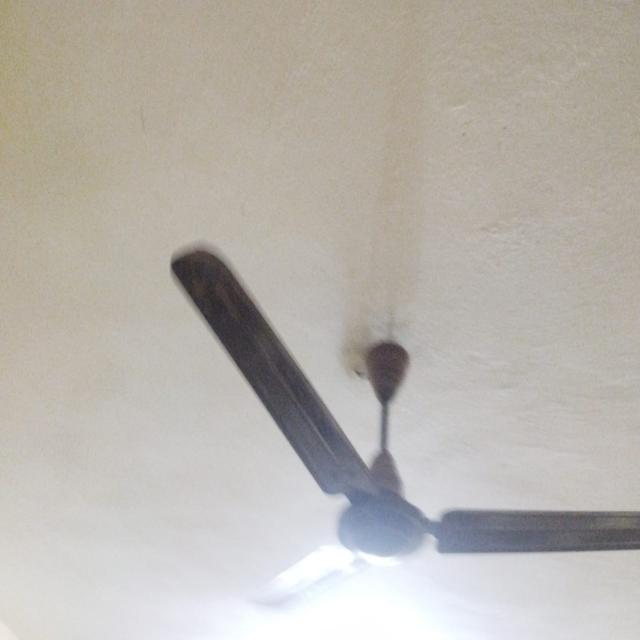fan_off: (166, 242, 639, 614)
